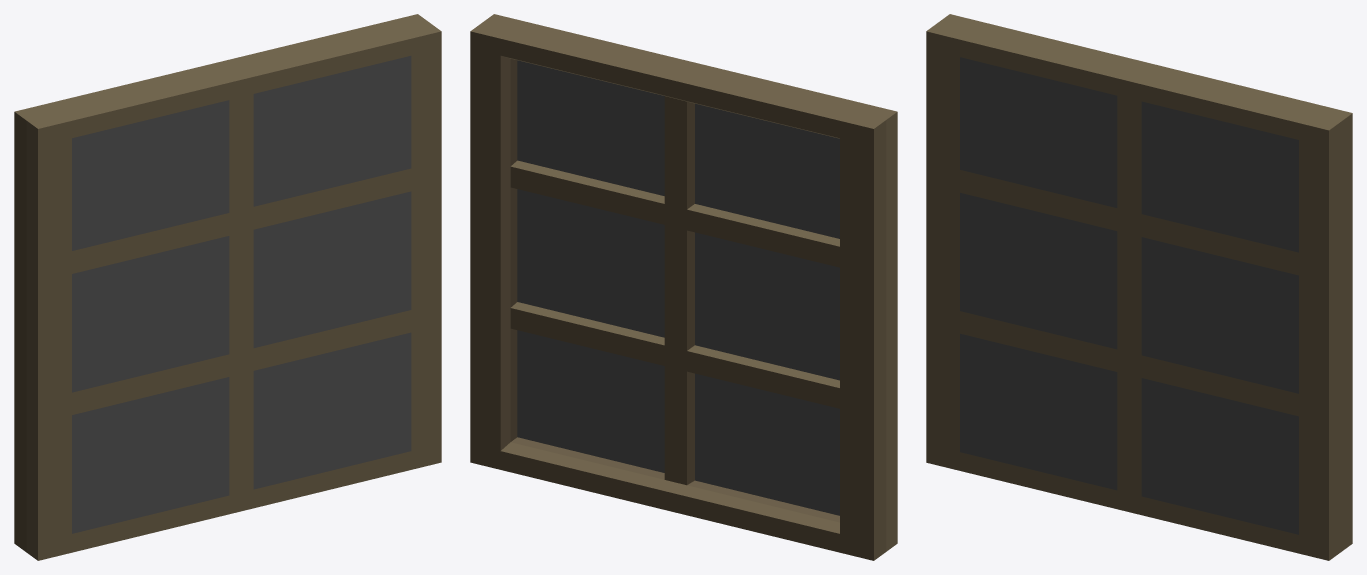
File: Window.fbx
3 renders of one model, left to right at view 1: azimuth 30°, elevation 25°; view 2: azimuth 150°, elevation 25°; view 3: azimuth 330°, elevation 25°, orthographic.
Parts seen in each view (by area): view 1: Window01; view 2: Window01; view 3: Window01.
Part boxes in pixels (x1,y1,x2,y2): Window01: (14, 14, 441, 560); Window01: (470, 14, 897, 560); Window01: (926, 14, 1352, 560).
Size of the model in its own units: 65.1 by 6.63 by 66.59.
Materials: 1 (1 with a texture image).
